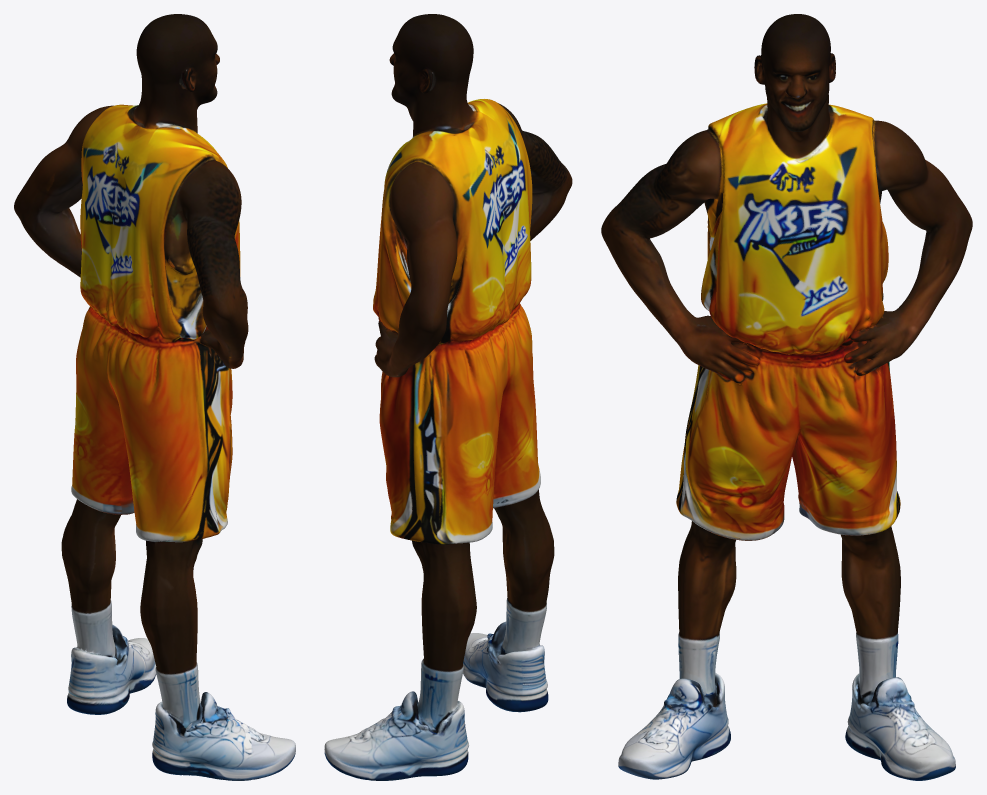
The model's file is bff67837-a37a-4fdc-a60d-454eb943cd66.glb.
The picture shows the model from 3 angles, left to right: view 1: azimuth 30°, elevation 25°; view 2: azimuth 150°, elevation 25°; view 3: azimuth 270°, elevation 25°; orthographic projection. The views are drawn at different scales.
Parts seen in each view (by area): view 1: tripo_node_7f6ce6fb-bfc9-46a5-9594-96c32f94d743; view 2: tripo_node_7f6ce6fb-bfc9-46a5-9594-96c32f94d743; view 3: tripo_node_7f6ce6fb-bfc9-46a5-9594-96c32f94d743.
Boxes of the visible parts, left/top/right/bottom form: tripo_node_7f6ce6fb-bfc9-46a5-9594-96c32f94d743: left=14, top=14, right=295, bottom=780; tripo_node_7f6ce6fb-bfc9-46a5-9594-96c32f94d743: left=324, top=14, right=572, bottom=780; tripo_node_7f6ce6fb-bfc9-46a5-9594-96c32f94d743: left=601, top=14, right=972, bottom=780.
Bounding box in the file's own units: 0.189 × 1 × 0.4508.
Materials: 1 (1 with a texture image).
